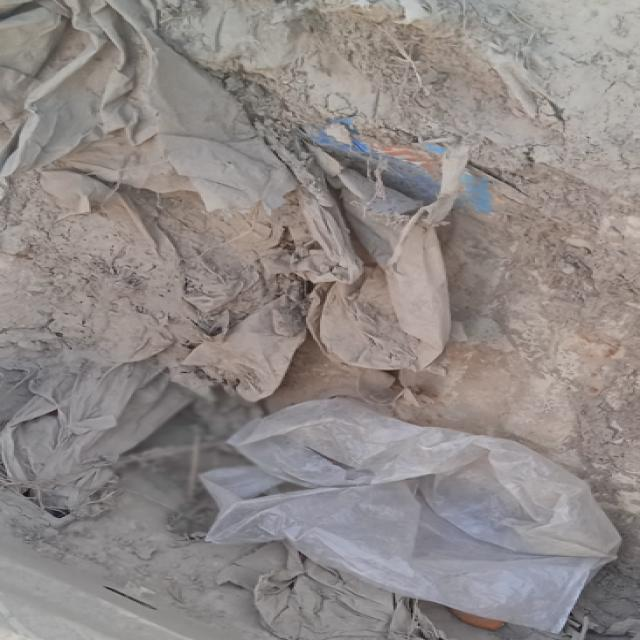electronic: (300, 106, 492, 208)
general: (198, 394, 622, 634)
